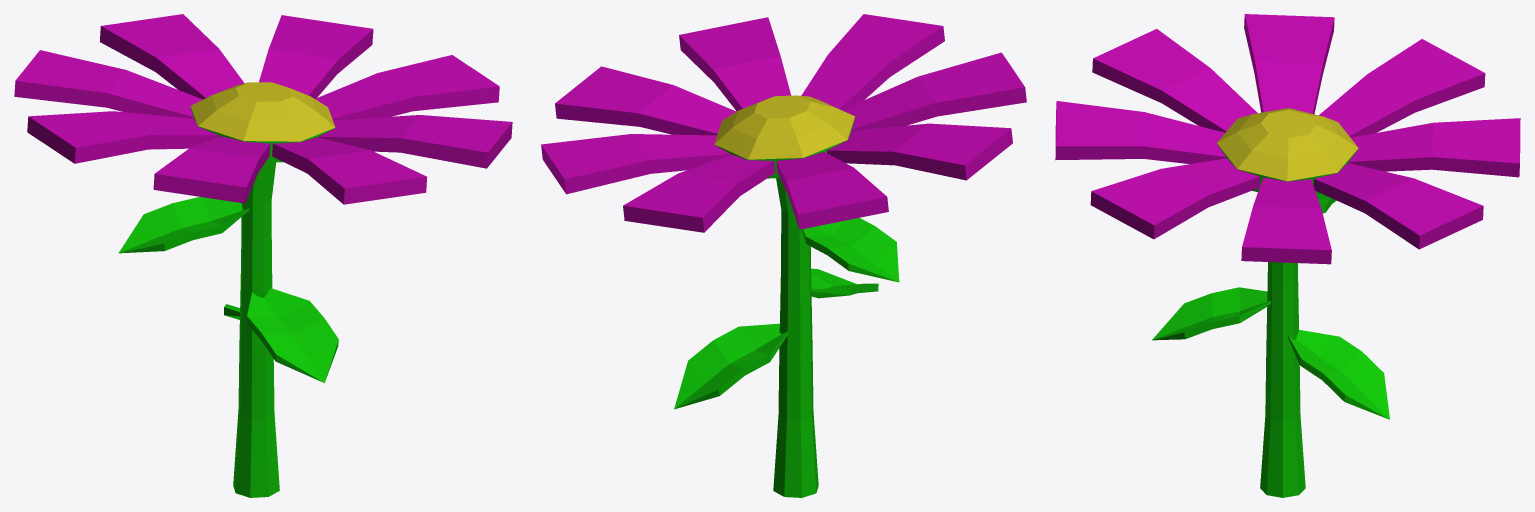
Rendered from Bloem R.fbx.
The picture shows the model from 3 angles, left to right: view 1: azimuth 30°, elevation 25°; view 2: azimuth 150°, elevation 25°; view 3: azimuth 270°, elevation 25°; orthographic projection. The views are drawn at different scales.
Parts seen in each view (by area): view 1: Cube.003; view 2: Cube.003; view 3: Cube.003.
Part boxes in pixels (x1,y1,x2,y2): Cube.003: [14, 14, 512, 497]; Cube.003: [541, 14, 1026, 497]; Cube.003: [1055, 14, 1520, 497].
Size of the model in its own units: 0.2248 by 0.2048 by 0.2261.
